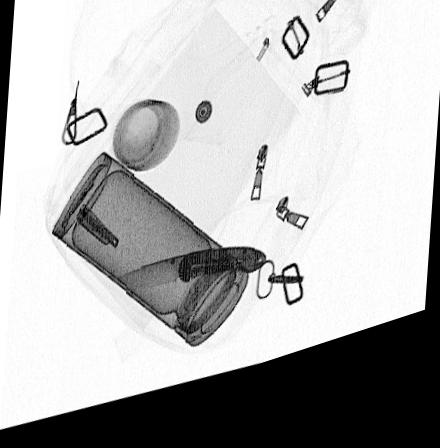Knife: (110, 261, 269, 299)
